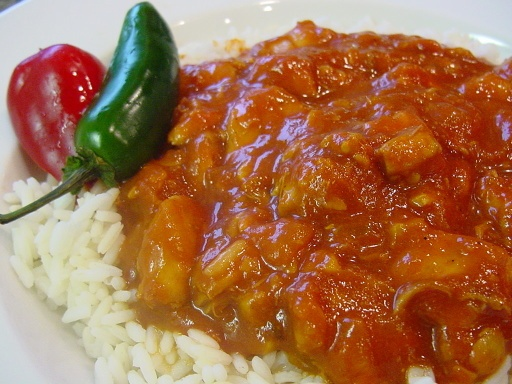background: (0, 1, 410, 230)
